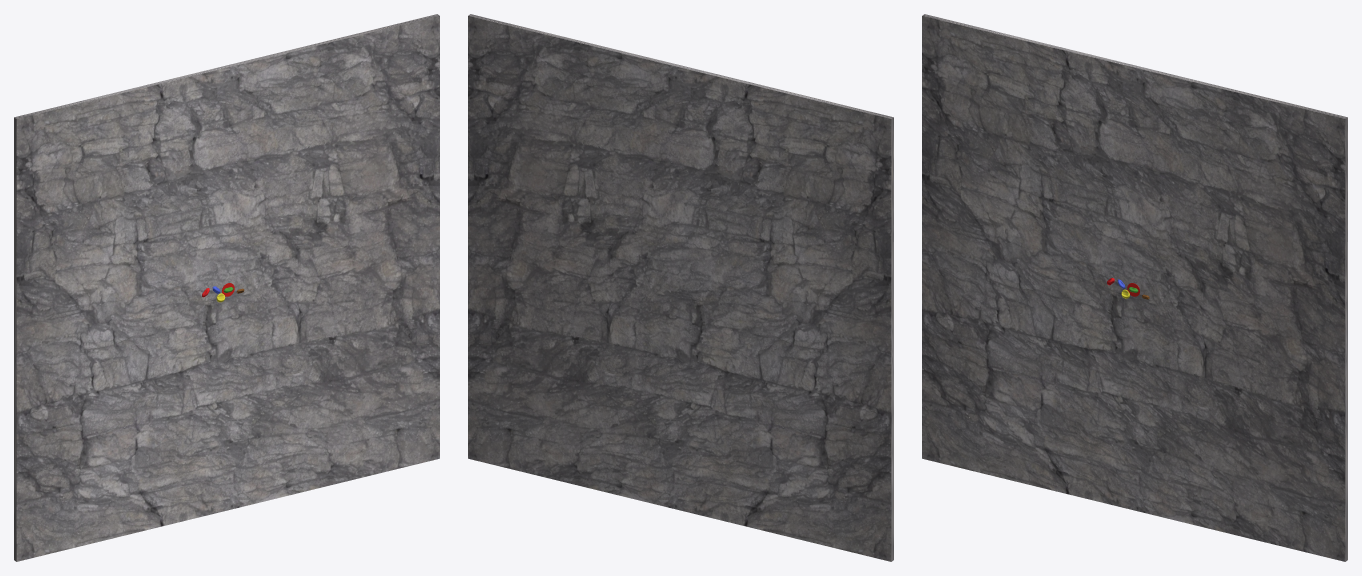
Rendered from climbing holds.glb.
3 renders of one model, left to right at view 1: azimuth 30°, elevation 25°; view 2: azimuth 150°, elevation 25°; view 3: azimuth 330°, elevation 25°, orthographic.
Visible parts, largest first — view 1: Wall1; view 2: Wall1; view 3: Wall1.
Part boxes in pixels (x1,y1,x2,y2): Wall1: (14,14,439,561); Wall1: (468,14,893,561); Wall1: (922,14,1347,561).
Size of the model in its own units: 20 by 20 by 0.3657.
Materials: 8 (1 with a texture image).
